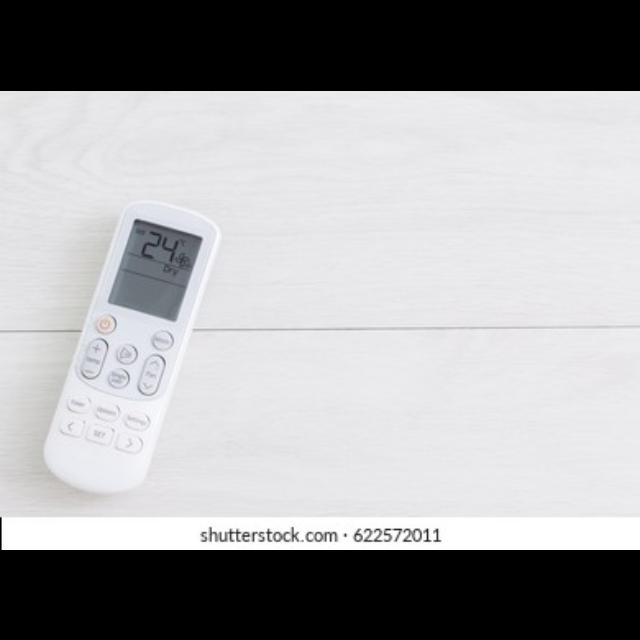TV-Remote-Control: (43, 200, 223, 495)
